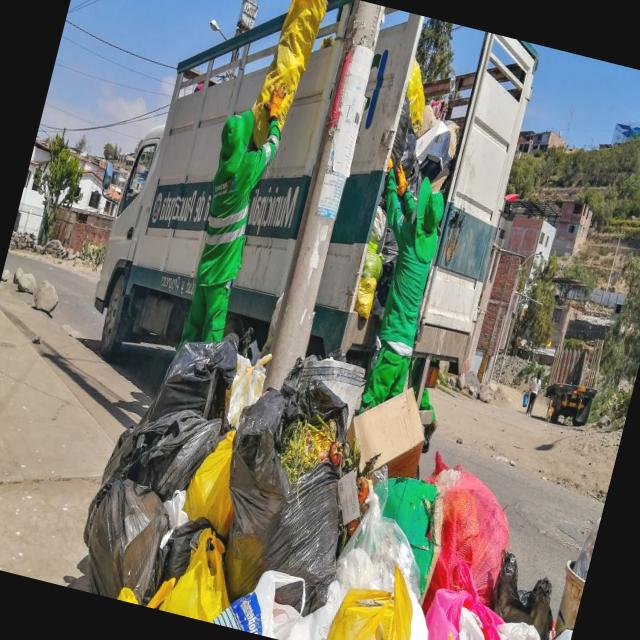garbage: (65, 281, 590, 640)
